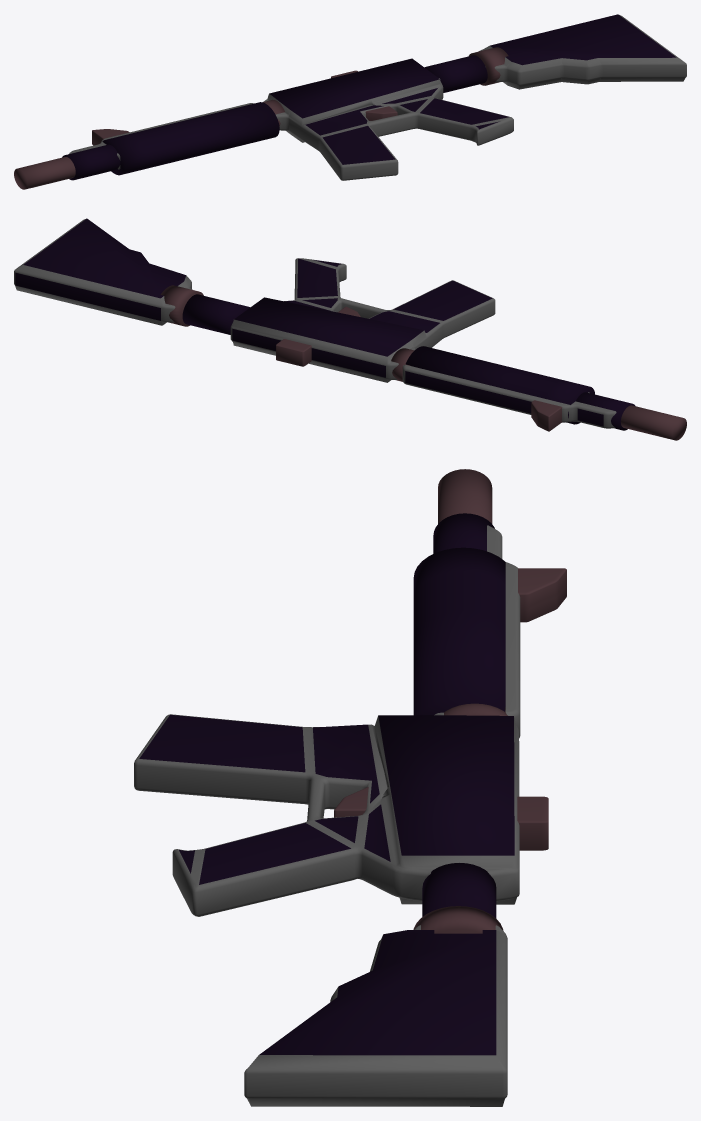
File: gun.fbx
3 renders of one model, top to bottom at view 1: azimuth 30°, elevation 25°; view 2: azimuth 150°, elevation 25°; view 3: azimuth 270°, elevation 25°, orthographic. The views are drawn at different scales.
Parts seen in each view (by area): view 1: Plane, Cylinder.003, Cylinder.002, Cylinder, Cylinder.001, Cylinder.005, Cube.002, Cube.001; view 2: Plane, Cylinder.003, Cylinder.002, Cylinder, Cube, Cylinder.005, Cylinder.001, Cube.002, Cylinder.004; view 3: Plane, Cylinder.003, Cylinder.002, Cylinder, Cube.002, Cylinder.005, Cylinder.001, Cube.
Part boxes in pixels (<box>): Plane: <box>32,14,686,187</box>; Cylinder.003: <box>102,102,279,175</box>; Cylinder.002: <box>424,55,487,92</box>; Cylinder: <box>14,157,75,189</box>; Cylinder.001: <box>62,144,120,180</box>; Cylinder.005: <box>469,47,508,85</box>; Cube.002: <box>92,129,129,145</box>; Cube.001: <box>365,106,397,120</box>; Plane: <box>14,218,616,428</box>; Cylinder.003: <box>405,346,594,424</box>; Cylinder.002: <box>182,294,249,334</box>; Cylinder: <box>621,405,686,440</box>; Cube: <box>276,339,311,366</box>; Cylinder.005: <box>160,285,203,326</box>; Cylinder.001: <box>576,392,635,430</box>; Cube.002: <box>531,400,562,431</box>; Cylinder.004: <box>391,348,414,381</box>; Plane: <box>134,525,520,1106</box>; Cylinder.003: <box>413,547,505,715</box>; Cylinder.002: <box>422,863,496,917</box>; Cylinder: <box>438,469,492,523</box>; Cube.002: <box>518,568,566,622</box>; Cylinder.005: <box>413,906,503,933</box>; Cylinder.001: <box>433,513,494,553</box>; Cube: <box>517,796,548,850</box>.
Size of the model in its own units: 1424 by 67.98 by 436.
